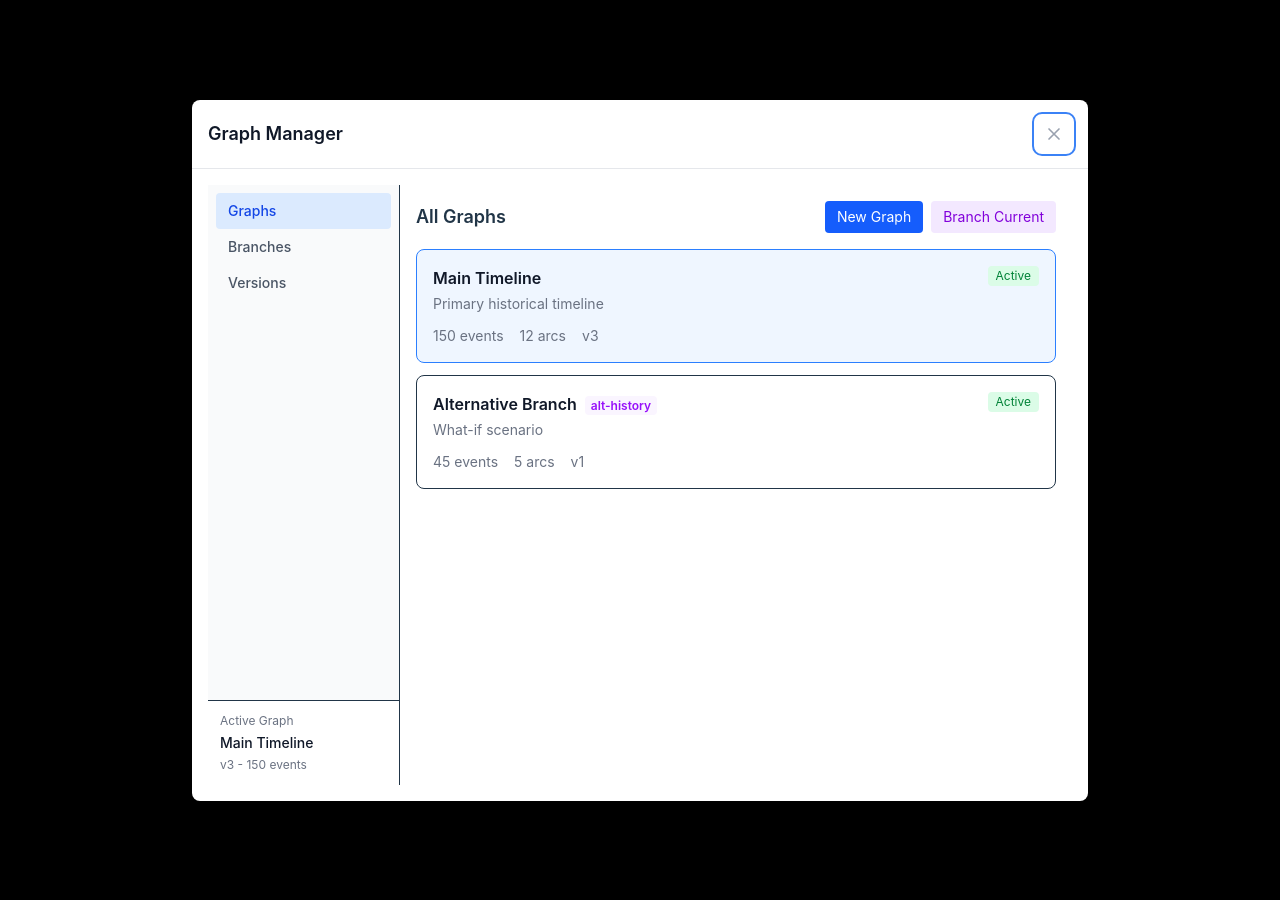
Test: GraphManagerModal › Edit Mode › should show edit form when Edit button is clicked
This screenshot has width=1280, height=900.
Select a graph
What coordinates should you click on to do the following:
click the text "Alternative Branch"
I would click on:
 (736, 432)
Its box is [416,374,1056,488].
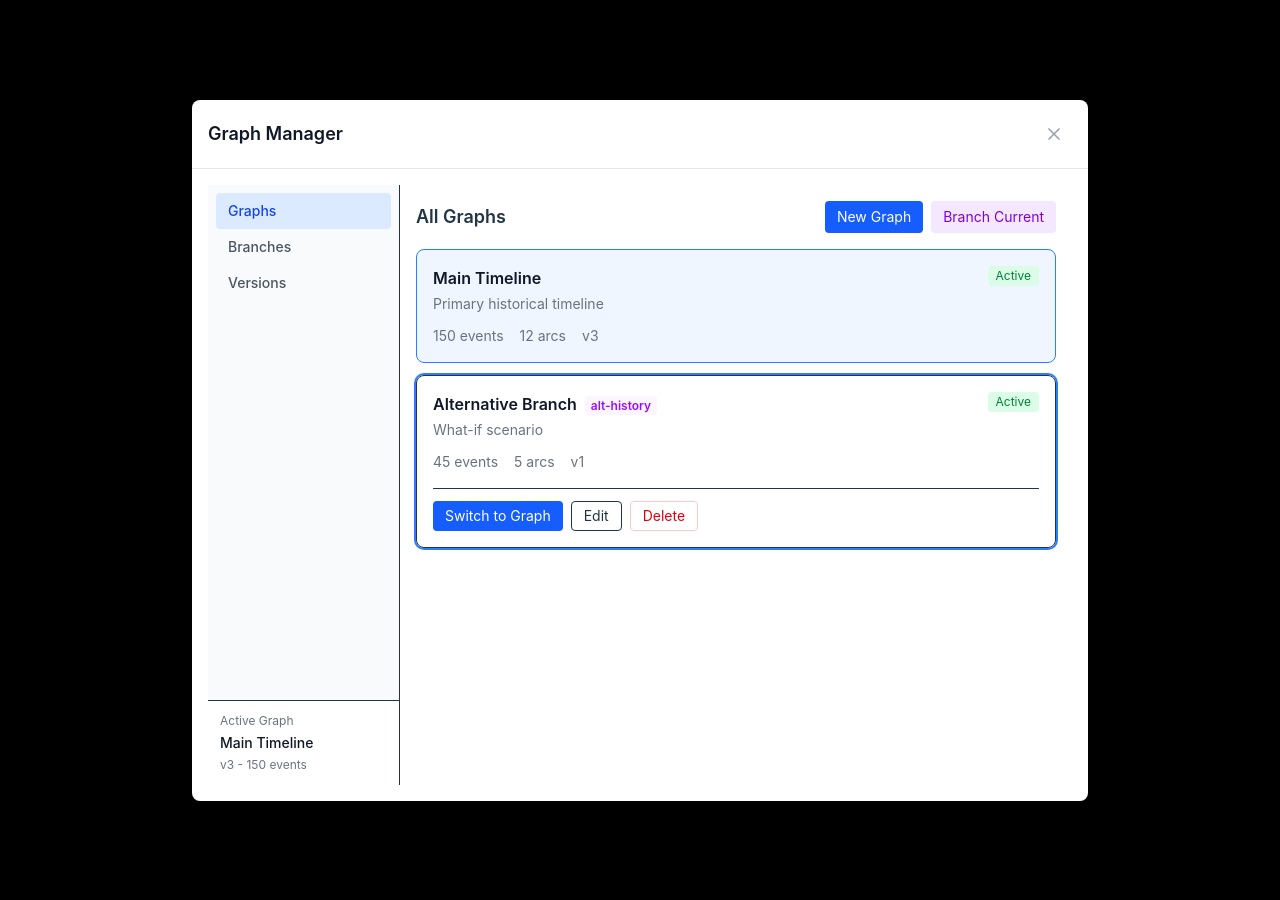
Click Edit
What coordinates should you click on to do the following:
click the button "Edit"
I would click on:
 (596, 516)
Its box is [571,500,622,530].
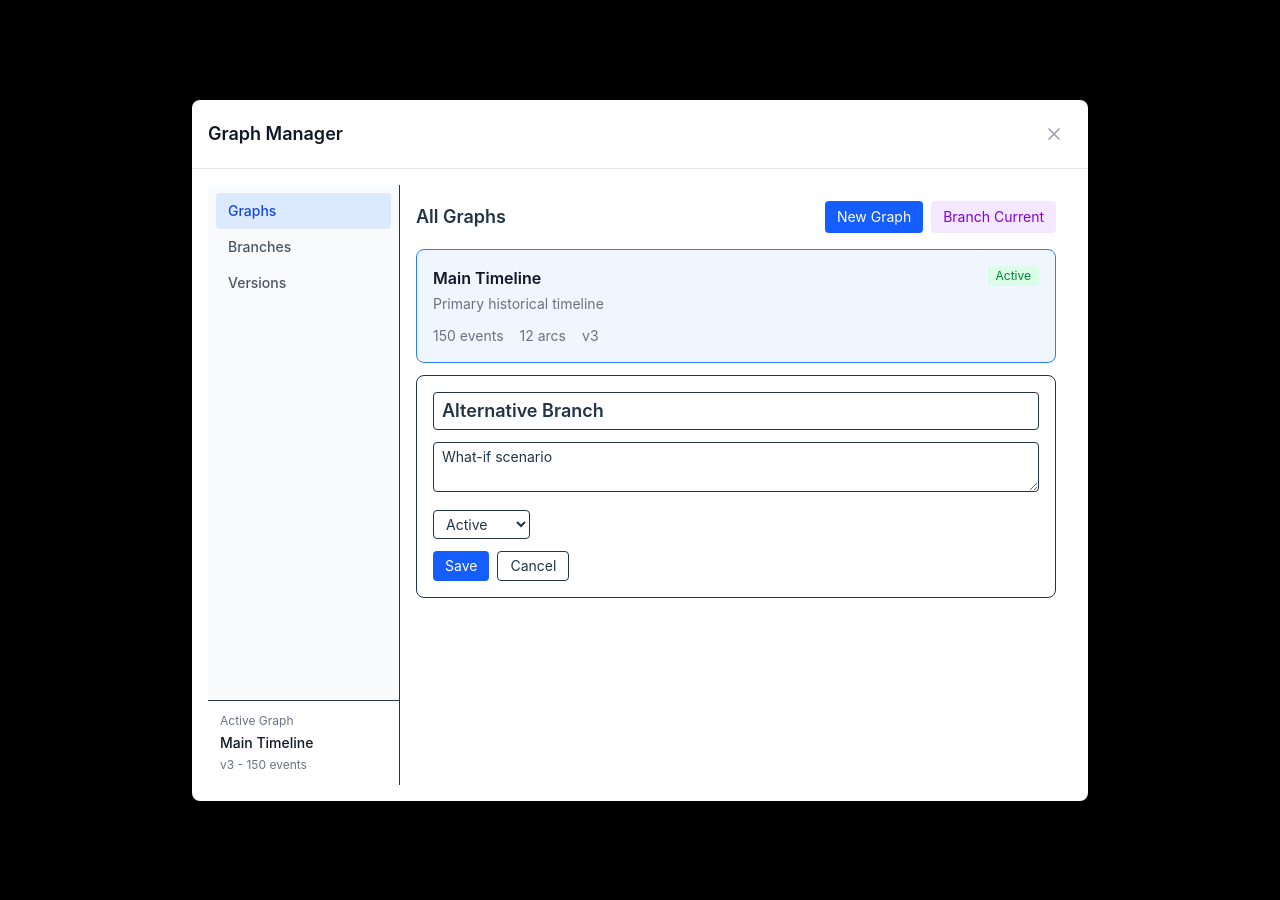
Check: the field showing "Alternative Branch" is shown, box [433,392,1039,430]
